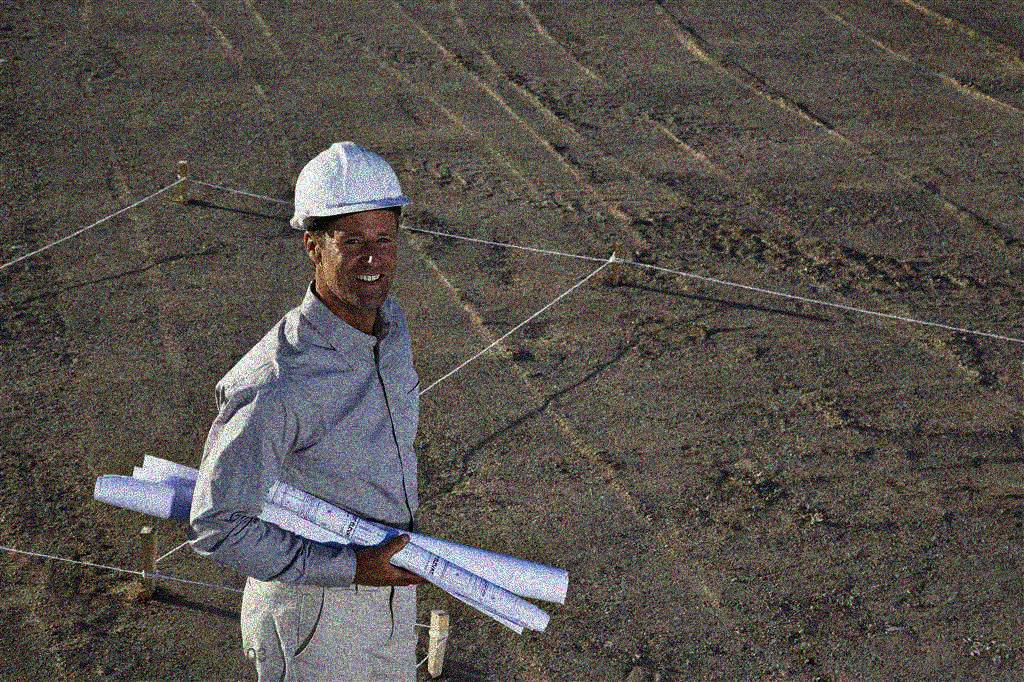helmet: (288, 139, 413, 310)
